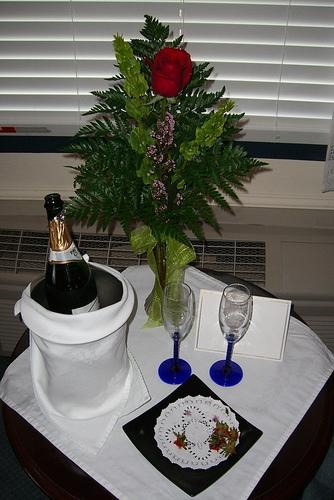strawberry: (207, 430, 226, 451), (212, 420, 231, 438), (221, 440, 236, 458), (173, 431, 187, 450), (227, 426, 240, 443)
